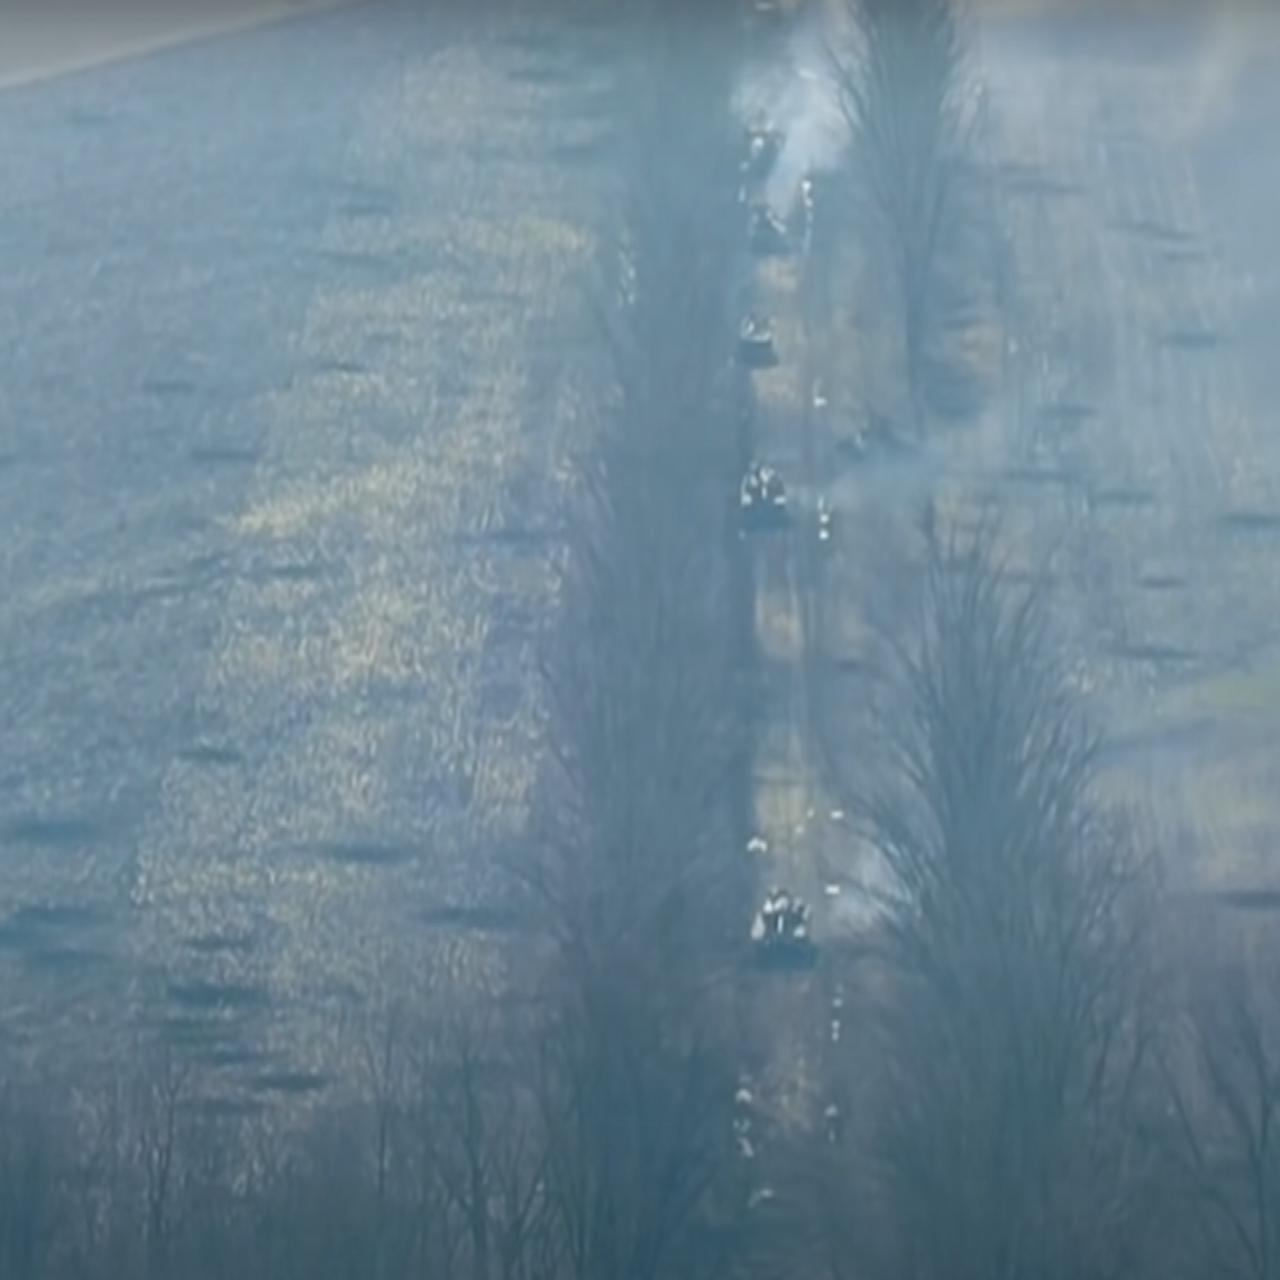MIL_Veh: (737, 884, 817, 958), (734, 196, 796, 261), (726, 461, 792, 522), (722, 305, 783, 368)
